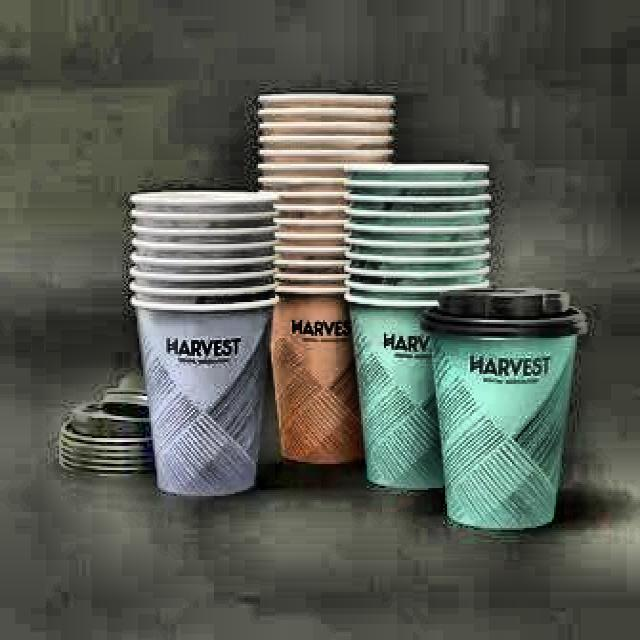Cup: (252, 88, 402, 475), (340, 150, 497, 519), (135, 184, 270, 514), (424, 298, 594, 560)
